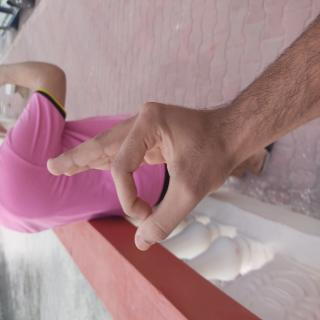Space: (50, 55, 168, 310)
